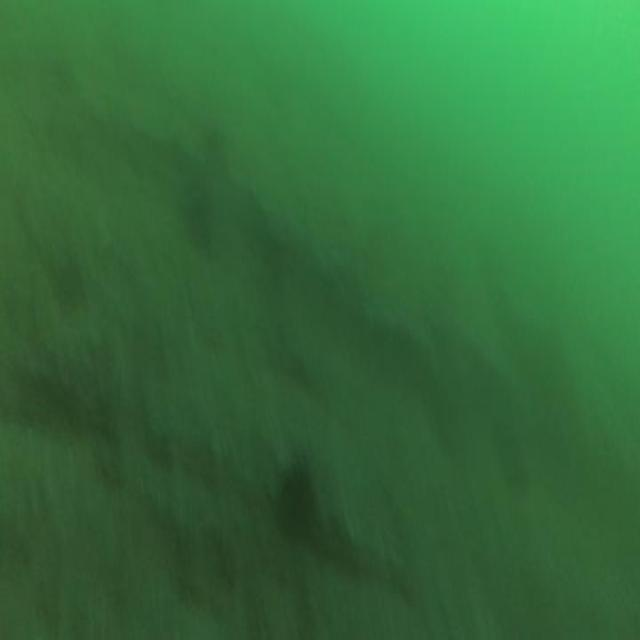echinus: (273, 458, 316, 553)
